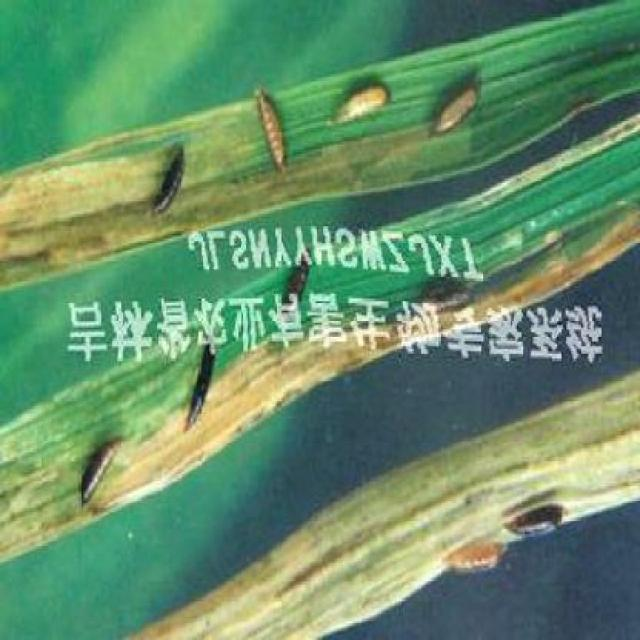whorl-maggot: (246, 86, 297, 182), (72, 429, 130, 513), (322, 78, 400, 134), (420, 77, 488, 141), (494, 496, 578, 546), (179, 354, 221, 443), (148, 144, 192, 216), (444, 536, 508, 581)
